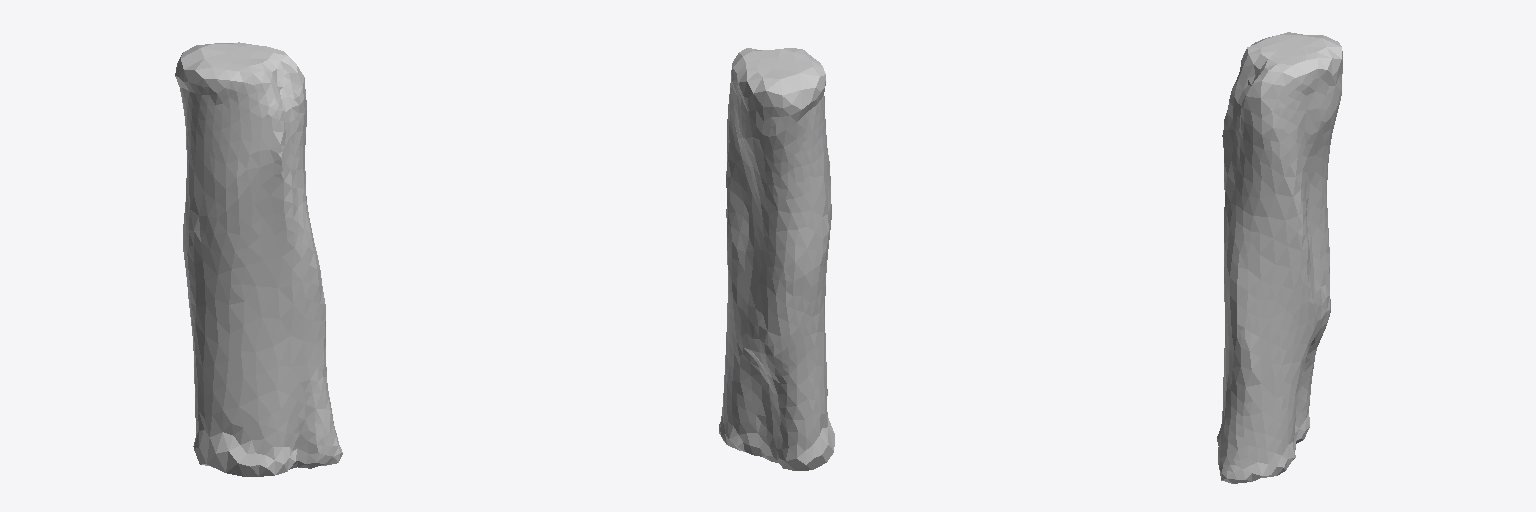
The model's file is RockPillars_6.obj.
3 views of the same model, side by side, from view 1: azimuth 30°, elevation 25°; view 2: azimuth 150°, elevation 25°; view 3: azimuth 270°, elevation 25° (orthographic).
Visible parts, largest first — view 1: RockPillar06; view 2: RockPillar06; view 3: RockPillar06.
Boxes of the visible parts, x1=… form: RockPillar06: x1=175, y1=42, x2=342, y2=476; RockPillar06: x1=719, y1=48, x2=834, y2=470; RockPillar06: x1=1217, y1=32, x2=1342, y2=483.
Size of the model in its own units: 13.59 by 42.41 by 12.13.